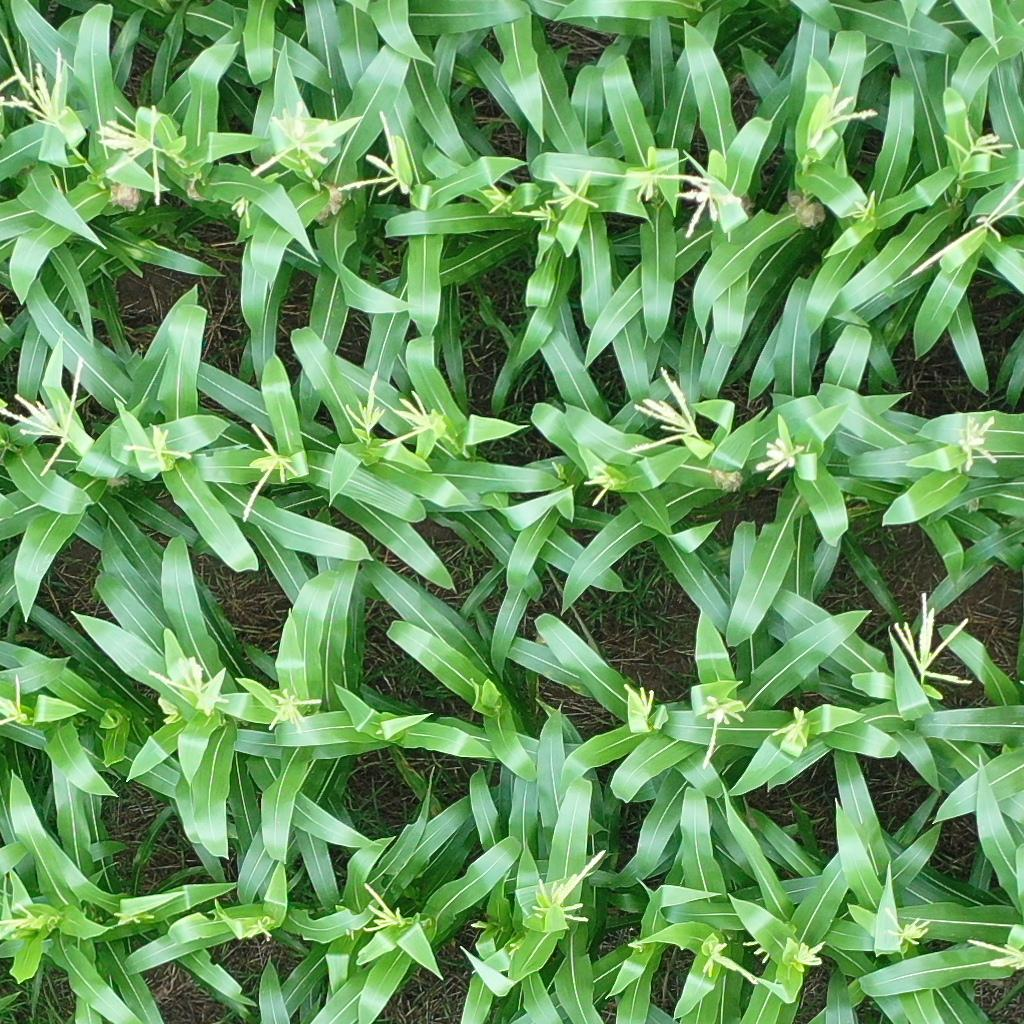Tassel: (910, 184, 1024, 277), (1, 356, 87, 477), (89, 99, 173, 206), (891, 590, 975, 686), (249, 98, 340, 178), (235, 421, 303, 522), (625, 366, 701, 454), (335, 110, 409, 200), (530, 847, 606, 927), (1, 45, 70, 133), (676, 150, 733, 237), (146, 655, 228, 709), (814, 80, 881, 136), (942, 112, 1015, 162), (383, 389, 441, 448), (699, 690, 742, 769), (955, 408, 1004, 474), (119, 423, 192, 466), (341, 369, 386, 435), (355, 877, 407, 933), (264, 689, 325, 733), (753, 436, 807, 482), (626, 153, 676, 202), (882, 904, 930, 949), (547, 167, 601, 207), (964, 935, 1024, 969), (772, 704, 815, 748), (621, 678, 656, 721), (512, 198, 556, 231), (584, 462, 614, 507), (1, 671, 25, 727), (1, 902, 35, 939), (797, 936, 831, 972), (703, 940, 735, 977), (851, 182, 877, 225), (111, 908, 156, 929), (743, 934, 770, 965), (483, 179, 509, 211), (232, 192, 256, 226), (242, 916, 272, 941)
